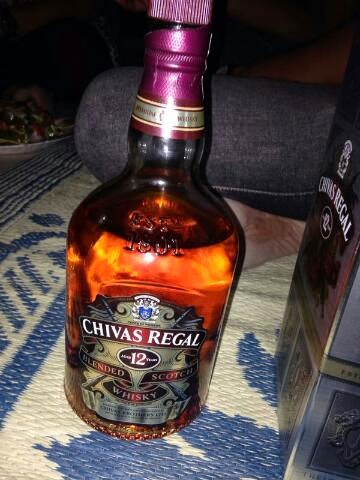Chivas Regal: (60, 1, 250, 446)
